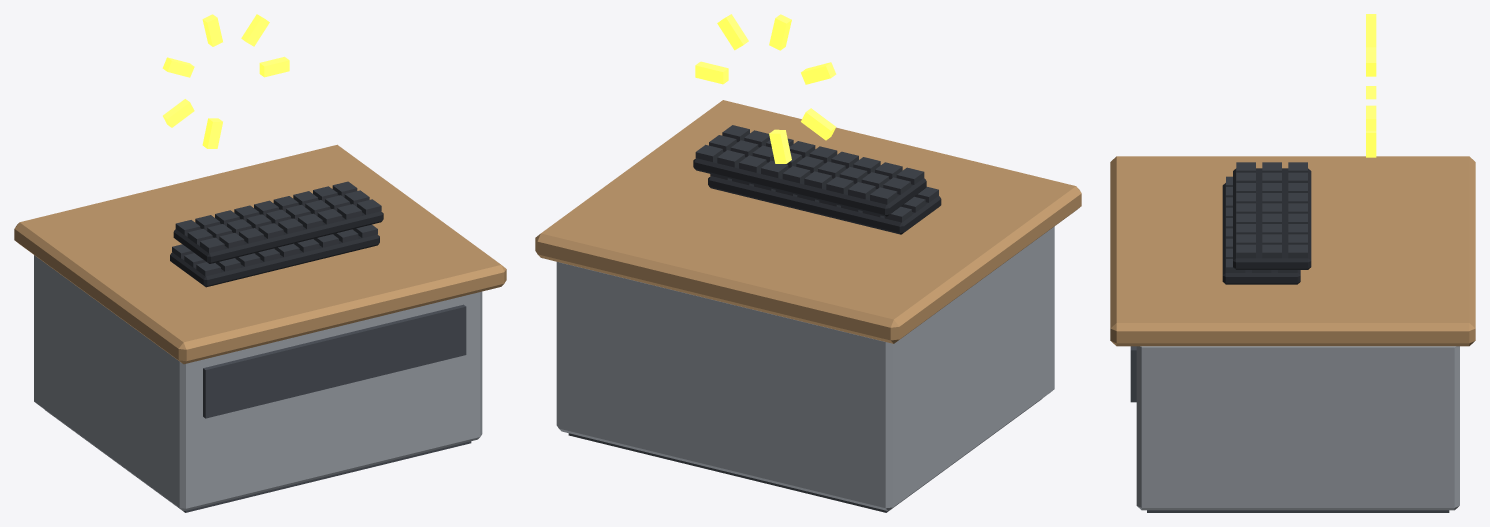
The model's file is keyboardsmash_p2_3.glb.
3 renders of one model, left to right at view 1: azimuth 30°, elevation 25°; view 2: azimuth 150°, elevation 25°; view 3: azimuth 270°, elevation 25°, orthographic. The views are drawn at different scales.
Visible parts, largest first — view 1: keyboardsmash_p2_3_mesh_Desk, keyboardsmash_p2_3_mesh; view 2: keyboardsmash_p2_3_mesh_Desk, keyboardsmash_p2_3_mesh; view 3: keyboardsmash_p2_3_mesh_Desk, keyboardsmash_p2_3_mesh.
Part boxes in pixels (x1,y1,x2,y2): keyboardsmash_p2_3_mesh_Desk: (14, 144, 506, 512); keyboardsmash_p2_3_mesh: (162, 14, 383, 287); keyboardsmash_p2_3_mesh_Desk: (535, 100, 1081, 512); keyboardsmash_p2_3_mesh: (693, 14, 941, 234); keyboardsmash_p2_3_mesh_Desk: (1110, 156, 1475, 512); keyboardsmash_p2_3_mesh: (1222, 14, 1376, 284).
Size of the model in its own units: 0.78 by 0.8815 by 0.7.
